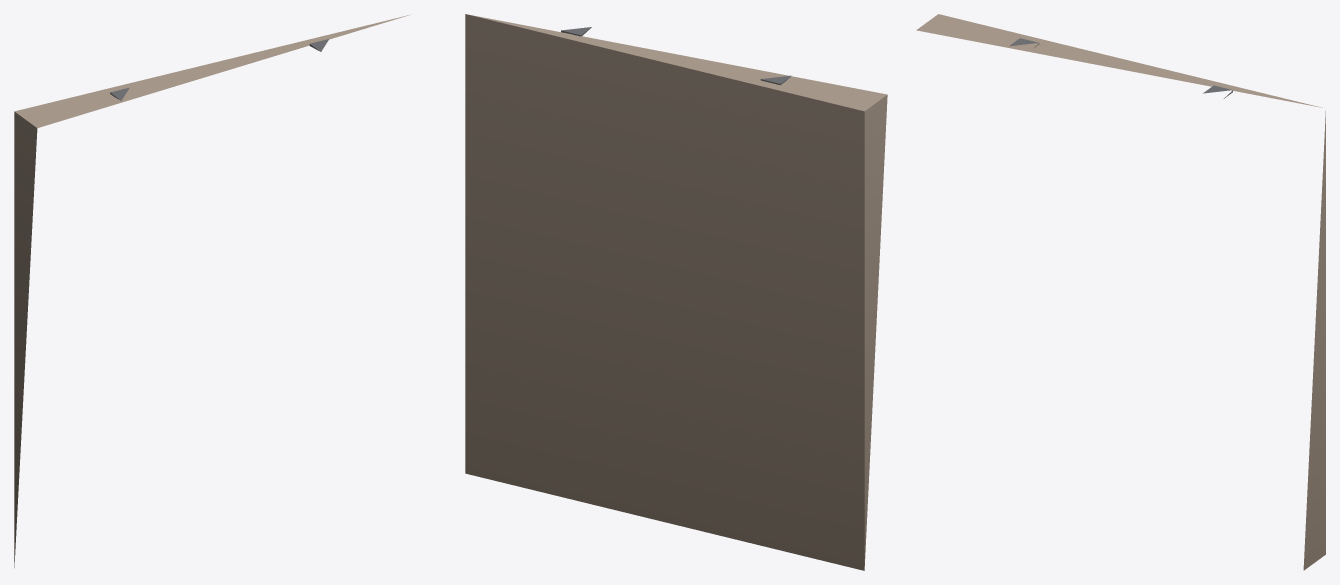
The model's file is wall_regocrete_meshin.glb.
3 renders of one model, left to right at view 1: azimuth 30°, elevation 25°; view 2: azimuth 150°, elevation 25°; view 3: azimuth 330°, elevation 25°, orthographic. The views are drawn at different scales.
Parts seen in each view (by area): view 1: wall_regocrete_meshin; view 2: wall_regocrete_meshin; view 3: wall_regocrete_meshin.
Boxes of the visible parts, <box> form: wall_regocrete_meshin: <box>14,14,410,567</box>; wall_regocrete_meshin: <box>465,14,887,570</box>; wall_regocrete_meshin: <box>916,14,1325,570</box>.
Bounding box in the file's own units: 2 × 2.21 × 0.2.
